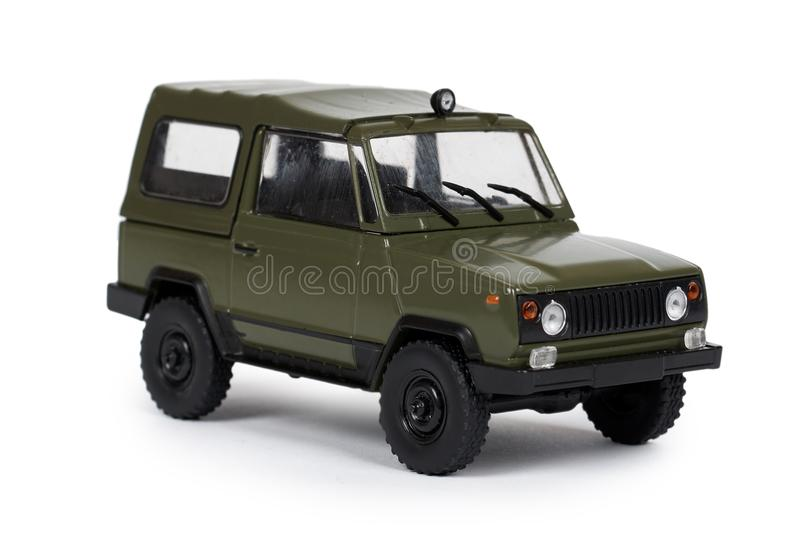jeep: (110, 77, 711, 469)
